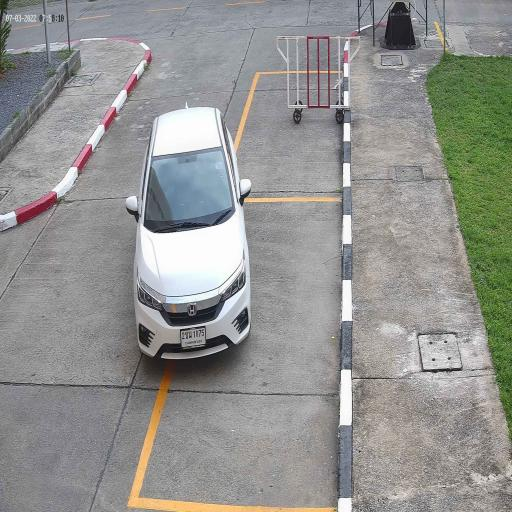car: (132, 104, 252, 360)
